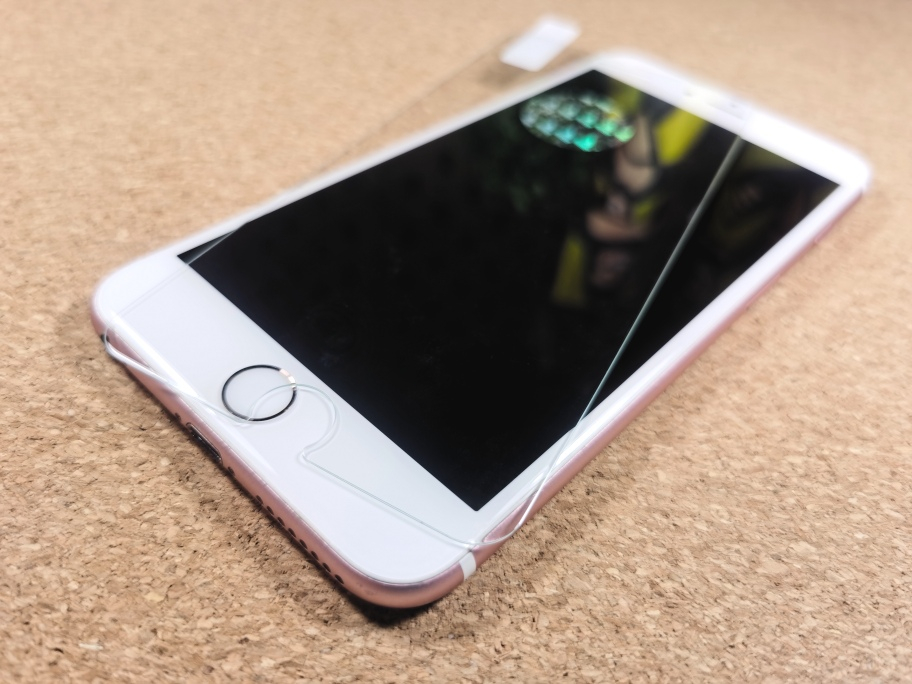Phone: (89, 51, 881, 622)
